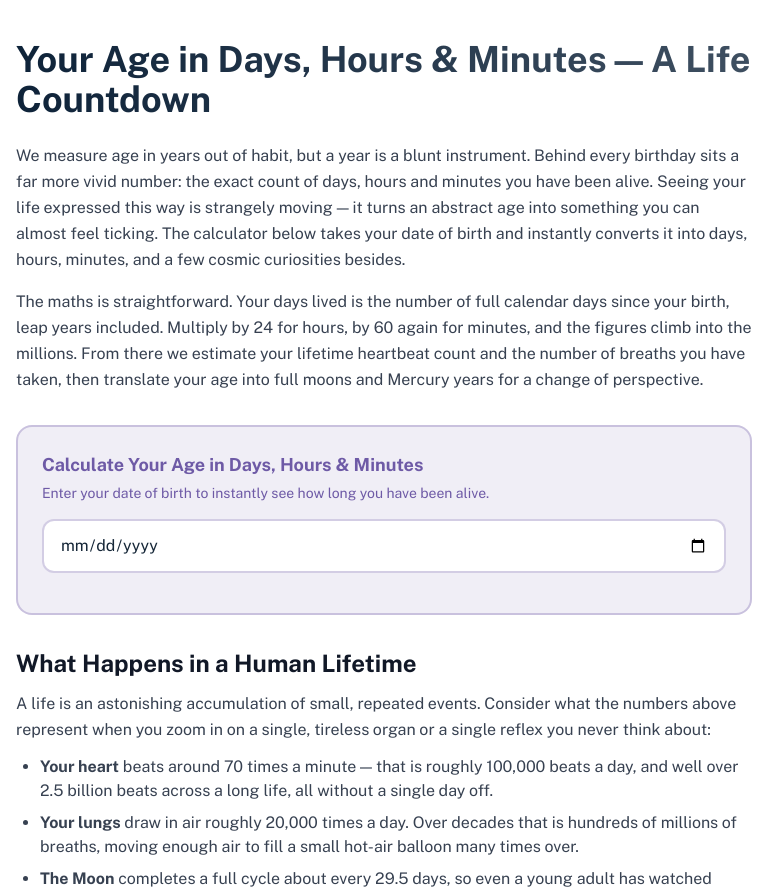
Test: AgeDaysHoursMinutesArticle › TC-ADH-P-04: entering DOB 1990-01-15 shows a days value with digits (not 0)
The width and height of the screenshot is (769, 894).
Type "1990-01-15" into the date field named "Enter your date of birth" at (384, 546), box [42,519,726,573]
(page scrolled)
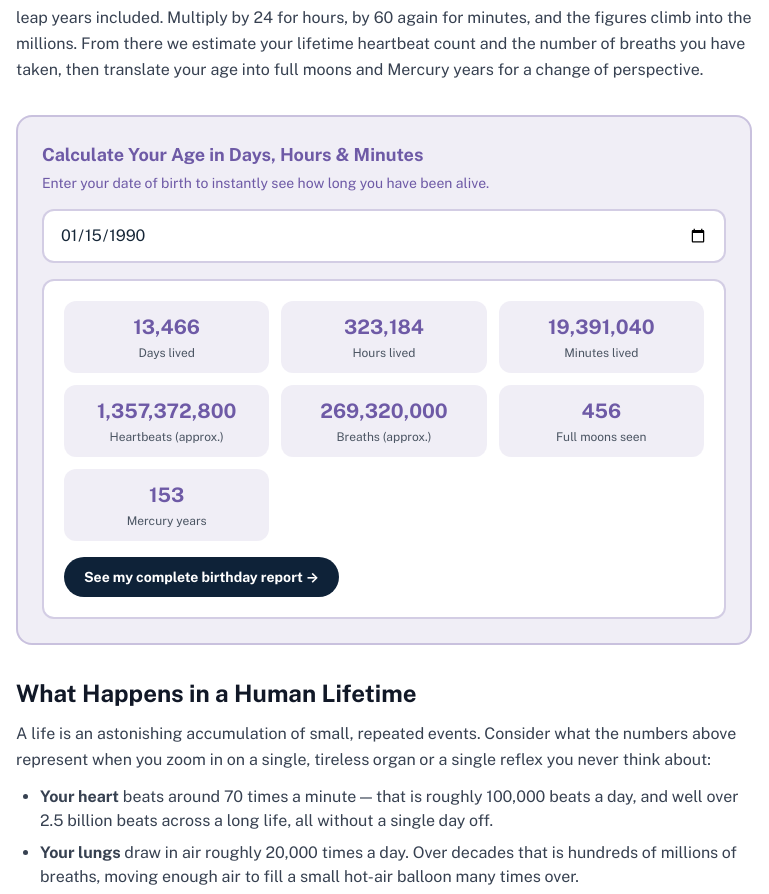
Check: the element with test id "age-days-result" is shown, box [42,279,726,619]
Check: the element with test id "age-days-result" shows "Days lived", box [138,346,195,360]
